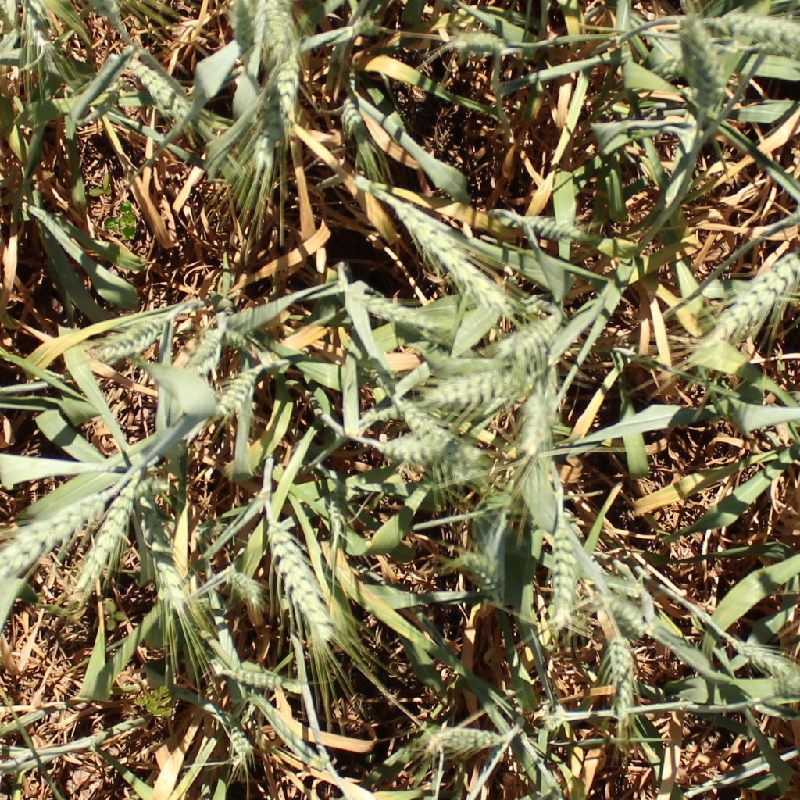spikelet: (390, 195, 511, 310), (1, 486, 109, 583), (263, 513, 338, 648), (707, 240, 800, 339), (69, 474, 139, 605), (250, 42, 307, 169), (137, 482, 189, 608), (541, 504, 585, 630), (677, 13, 731, 107), (488, 208, 598, 252), (124, 55, 196, 121), (422, 366, 529, 410), (710, 9, 800, 56), (729, 633, 799, 691), (93, 312, 168, 363), (494, 309, 565, 361), (515, 389, 560, 457), (393, 396, 453, 446), (420, 720, 506, 754), (604, 632, 638, 717), (456, 546, 506, 602), (597, 588, 650, 637), (211, 366, 259, 419), (378, 430, 446, 465), (218, 657, 290, 690), (255, 1, 299, 50), (184, 322, 226, 373), (448, 27, 510, 59), (225, 1, 263, 50), (222, 564, 264, 606), (536, 698, 569, 732), (226, 726, 253, 766)
weed: (104, 200, 136, 240), (135, 686, 173, 716), (102, 599, 130, 633), (89, 172, 112, 197)
